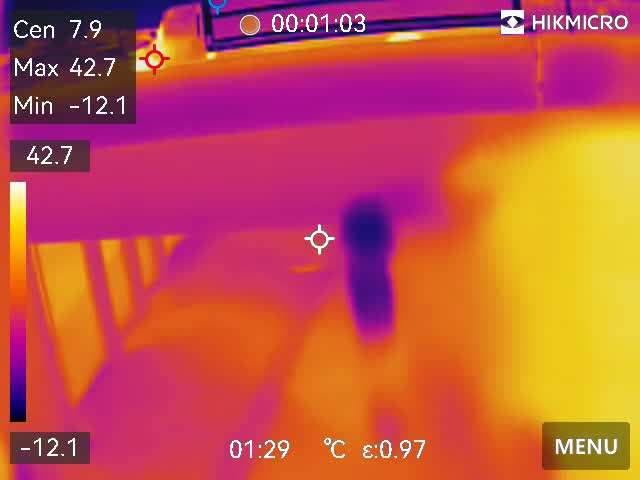heavyTruck: (149, 1, 530, 34)
